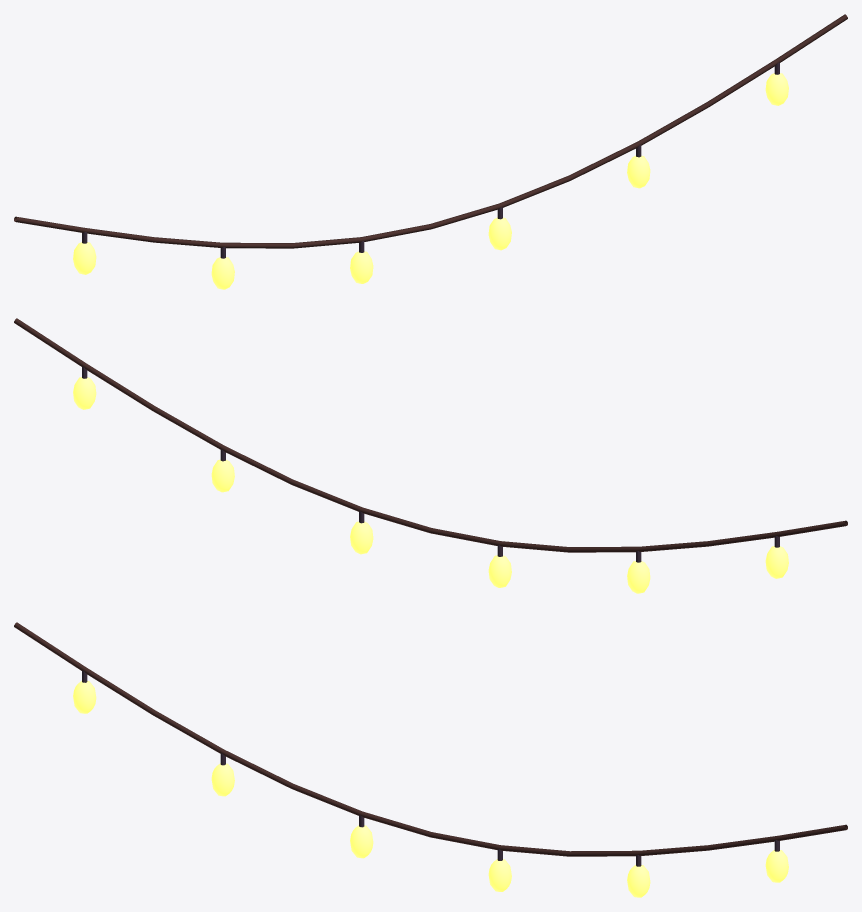
Rendered from StringLights_12.glb.
The picture shows the model from 3 angles, top to bottom: view 1: azimuth 30°, elevation 25°; view 2: azimuth 150°, elevation 25°; view 3: azimuth 330°, elevation 25°; orthographic projection.
Parts seen in each view (by area): view 1: StringLights_12__Cable, StringLights_12__Glow; view 2: StringLights_12__Cable, StringLights_12__Glow; view 3: StringLights_12__Cable, StringLights_12__Glow.
Boxes of the visible parts, bbox=[...] form: StringLights_12__Cable: bbox=[14, 14, 847, 258]; StringLights_12__Glow: bbox=[73, 73, 788, 289]; StringLights_12__Cable: bbox=[14, 318, 847, 562]; StringLights_12__Glow: bbox=[73, 377, 788, 593]; StringLights_12__Cable: bbox=[14, 622, 847, 866]; StringLights_12__Glow: bbox=[73, 681, 788, 897].
Size of the model in its own units: 12.02 by 2.09 by 0.3.
